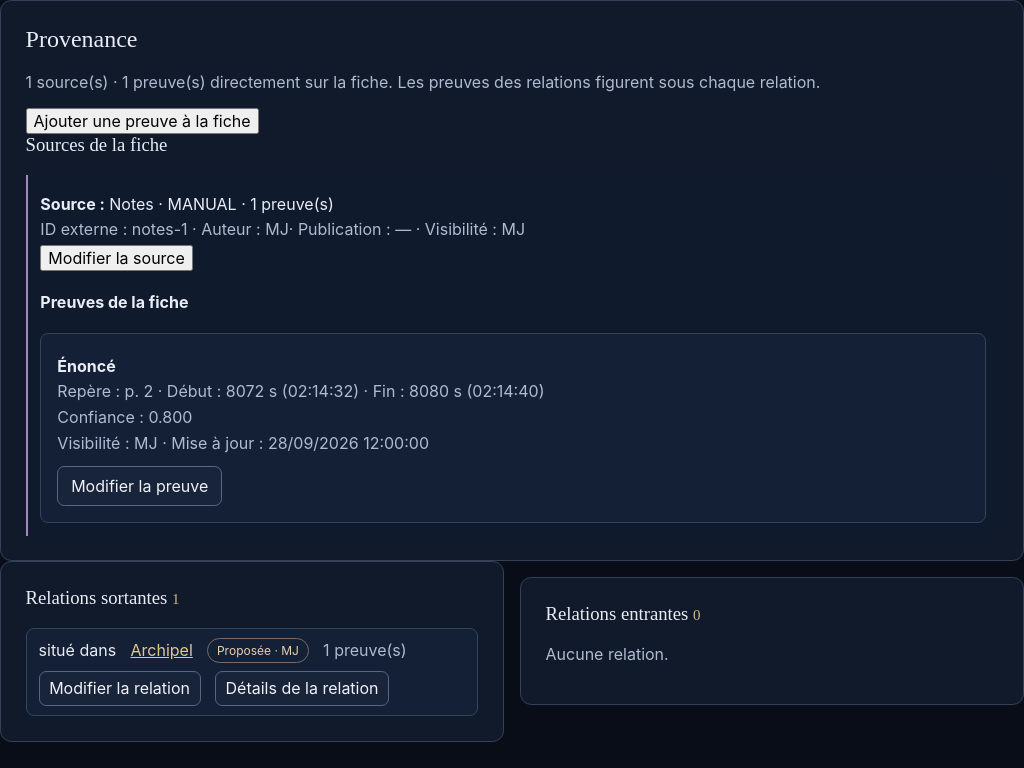
it: relations et provenance admin › propose la modification dès la ligne compacte, même si les preuves différées sont indisponibles
Click the button "Modifier la relation" at (120, 688), box [39,671,201,706]
(page scrolled)
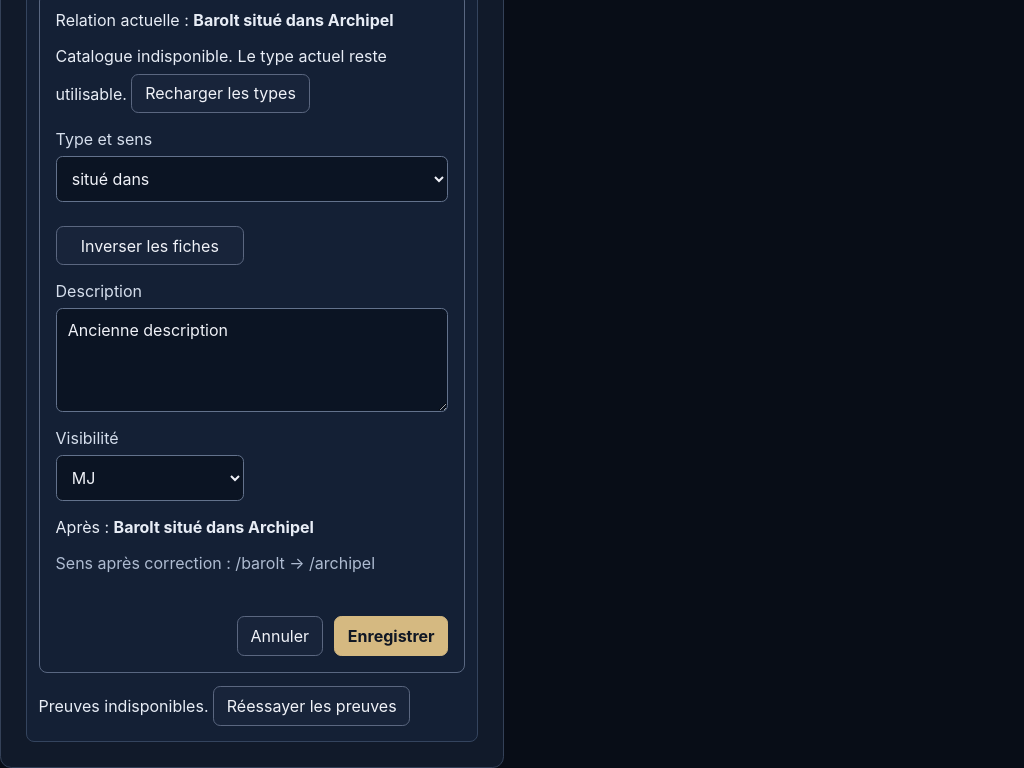
Result: the button "Inverser les fiches" is enabled at [56,226,244,266]
Result: the text "Preuves indisponibles. Réessayer les preuves" is shown at [39,678,466,726]
